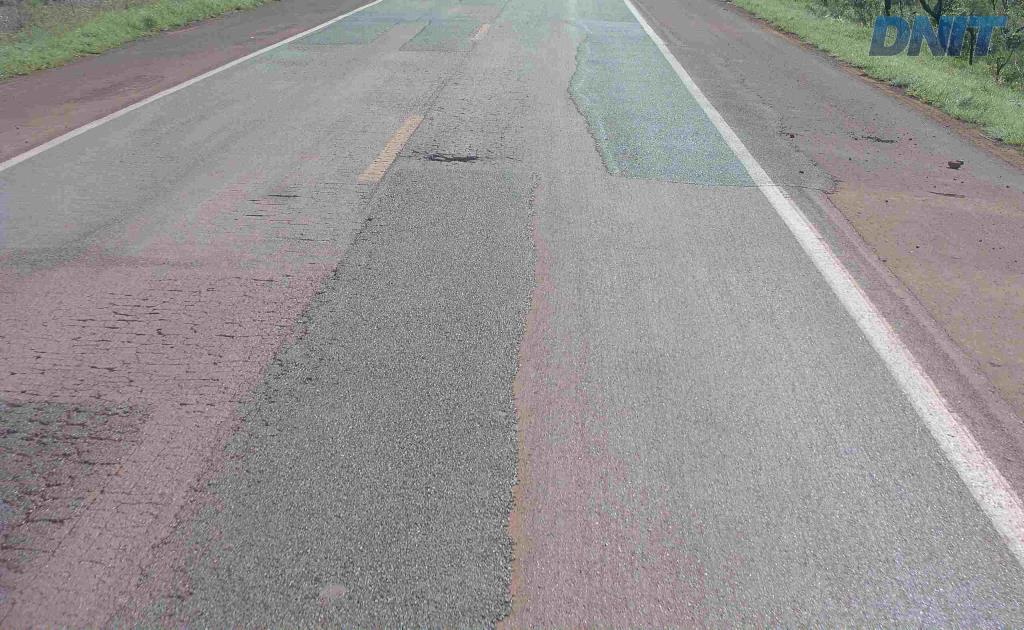pothole: (420, 149, 486, 166)
